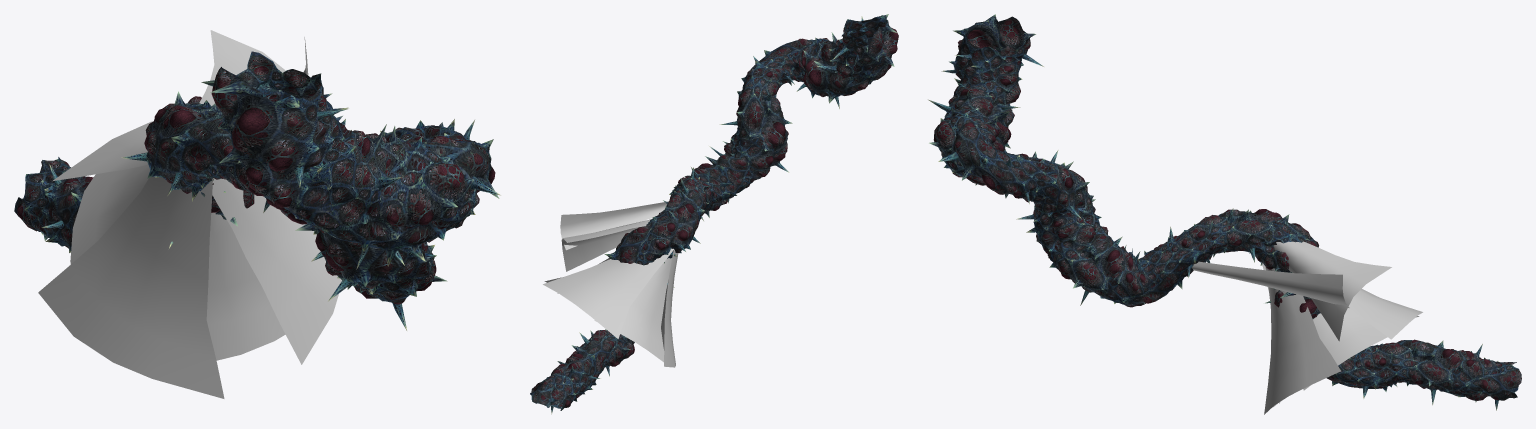
The model's file is backup.fbx.
3 views of the same model, side by side, from view 1: azimuth 30°, elevation 25°; view 2: azimuth 150°, elevation 25°; view 3: azimuth 270°, elevation 25° (orthographic). The views are drawn at different scales.
Visible parts, largest first — view 1: LODGroup_1_MainMesh_1_SubMesh_1, LODGroup_1_MainMesh_2_SubMesh_2, LODGroup_1_MainMesh_2_SubMesh_1; view 2: LODGroup_1_MainMesh_2_SubMesh_1, LODGroup_1_MainMesh_1_SubMesh_1, LODGroup_1_MainMesh_2_SubMesh_2; view 3: LODGroup_1_MainMesh_2_SubMesh_1, LODGroup_1_MainMesh_2_SubMesh_2, LODGroup_1_MainMesh_1_SubMesh_1.
Boxes of the visible parts, x1,y1,x2,y2 form: LODGroup_1_MainMesh_1_SubMesh_1: [38, 30, 341, 398]; LODGroup_1_MainMesh_2_SubMesh_2: [14, 51, 493, 304]; LODGroup_1_MainMesh_2_SubMesh_1: [39, 67, 500, 330]; LODGroup_1_MainMesh_2_SubMesh_1: [530, 16, 898, 414]; LODGroup_1_MainMesh_1_SubMesh_1: [543, 201, 678, 367]; LODGroup_1_MainMesh_2_SubMesh_2: [543, 14, 888, 410]; LODGroup_1_MainMesh_2_SubMesh_1: [928, 14, 1521, 410]; LODGroup_1_MainMesh_2_SubMesh_2: [929, 28, 1504, 402]; LODGroup_1_MainMesh_1_SubMesh_1: [1192, 239, 1422, 414].
Size of the model in its own units: 922 by 1142 by 1883.
